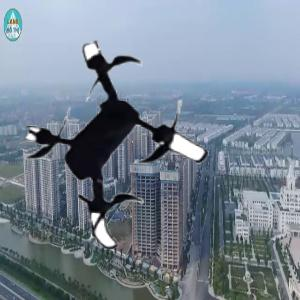drone: (15, 43, 227, 255)
